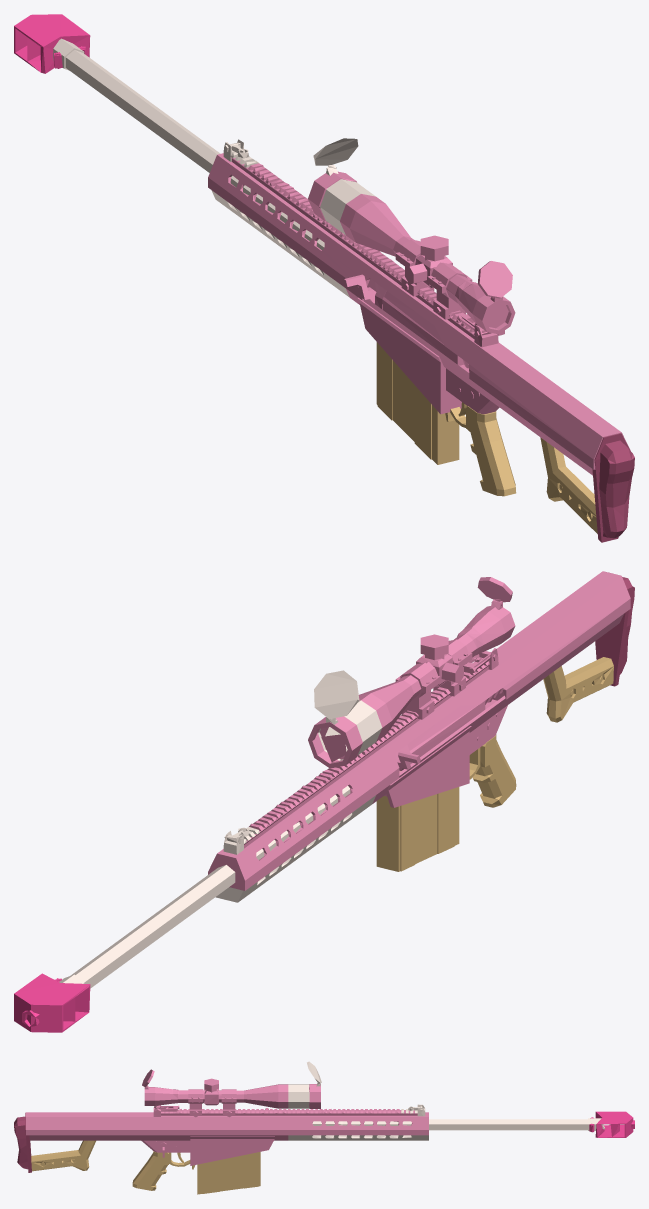
File: Sniper_M82.obj
3 views of the same model, one above another, from view 1: azimuth 30°, elevation 25°; view 2: azimuth 150°, elevation 25°; view 3: azimuth 270°, elevation 25° (orthographic). The views are drawn at different scales.
Parts seen in each view (by area): view 1: Body, Hardware, Panel, Grip, Accent; view 2: Body, Hardware, Panel, Accent, Grip; view 3: Body, Hardware, Panel, Accent, Grip.
Boxes of the visible parts, x1,y1,x2,y2 form: Body: (208, 153, 630, 475); Hardware: (376, 342, 597, 533); Panel: (53, 38, 375, 297); Grip: (592, 433, 634, 542); Accent: (14, 14, 90, 73); Body: (208, 571, 630, 890); Hardware: (376, 657, 613, 871); Panel: (59, 670, 382, 988); Accent: (14, 973, 90, 1032); Grip: (595, 572, 634, 686); Body: (26, 1069, 428, 1165); Hardware: (31, 1140, 260, 1194); Panel: (288, 1061, 604, 1140); Accent: (589, 1111, 634, 1137); Grip: (14, 1112, 31, 1172).
Bounding box in the file's own units: 0.2365 × 0.9185 × 4.
